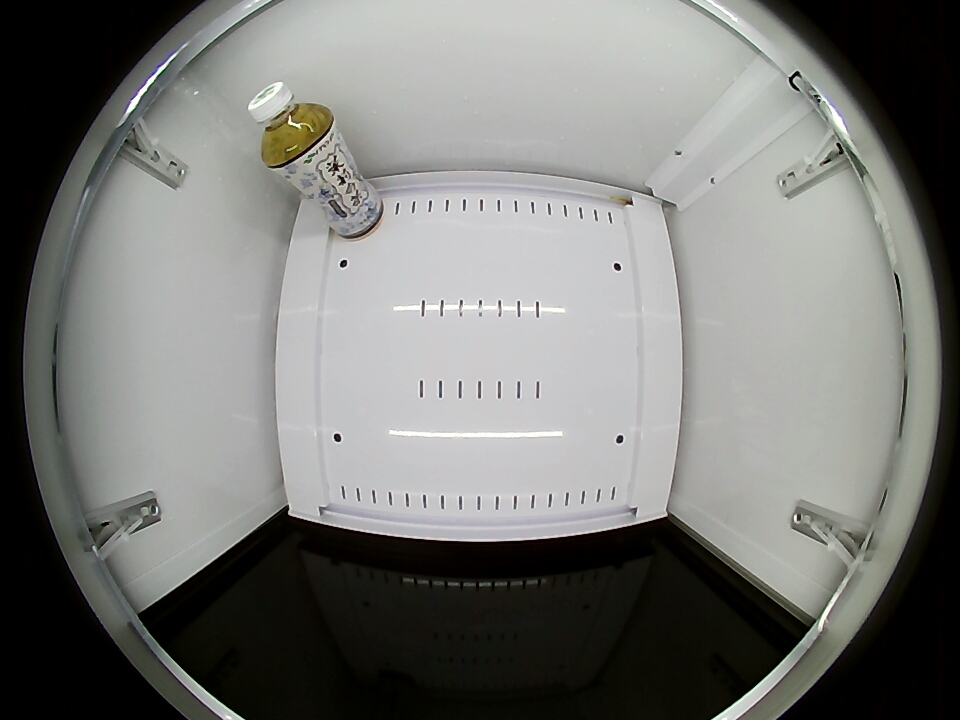baicha: (249, 81, 335, 170)
